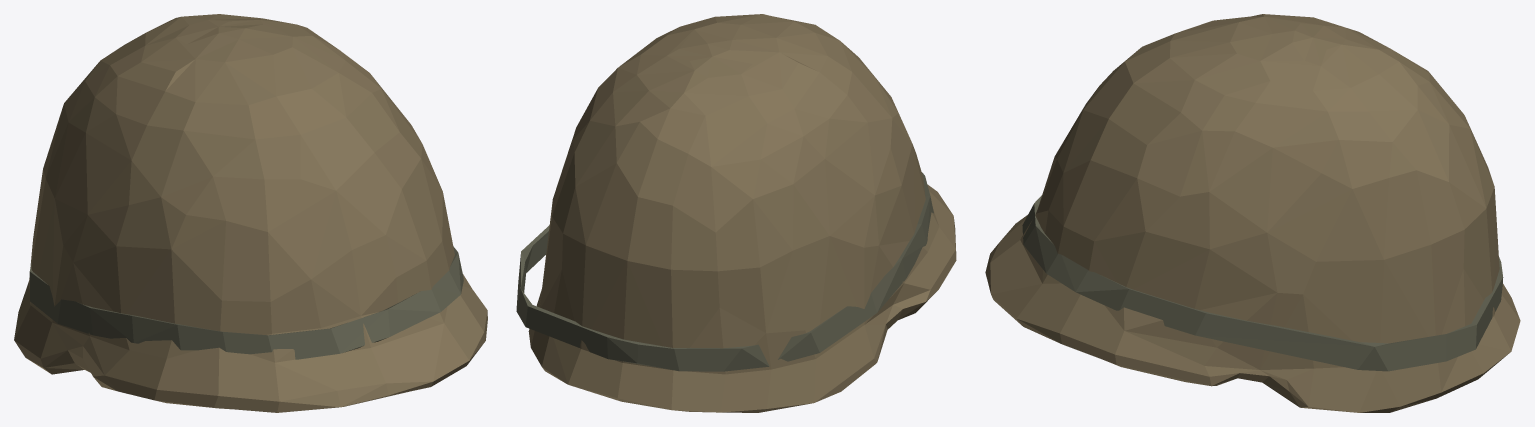
The model's file is m1_born_to_kill.glb.
The picture shows the model from 3 angles, left to right: view 1: azimuth 30°, elevation 25°; view 2: azimuth 150°, elevation 25°; view 3: azimuth 270°, elevation 25°; orthographic projection. The views are drawn at different scales.
Visible parts, largest first — view 1: helmet_born_to_kill_cover, helmet_born_to_kill_band; view 2: helmet_born_to_kill_cover, helmet_born_to_kill_band; view 3: helmet_born_to_kill_cover, helmet_born_to_kill_band.
Part boxes in pixels (bbox=[...]): helmet_born_to_kill_cover: bbox=[14, 14, 487, 412]; helmet_born_to_kill_band: bbox=[29, 246, 463, 359]; helmet_born_to_kill_cover: bbox=[528, 14, 956, 412]; helmet_born_to_kill_band: bbox=[516, 172, 933, 371]; helmet_born_to_kill_cover: bbox=[985, 14, 1520, 412]; helmet_born_to_kill_band: bbox=[1022, 195, 1503, 371].
Size of the model in its own units: 0.2289 by 0.1917 by 0.3044.
